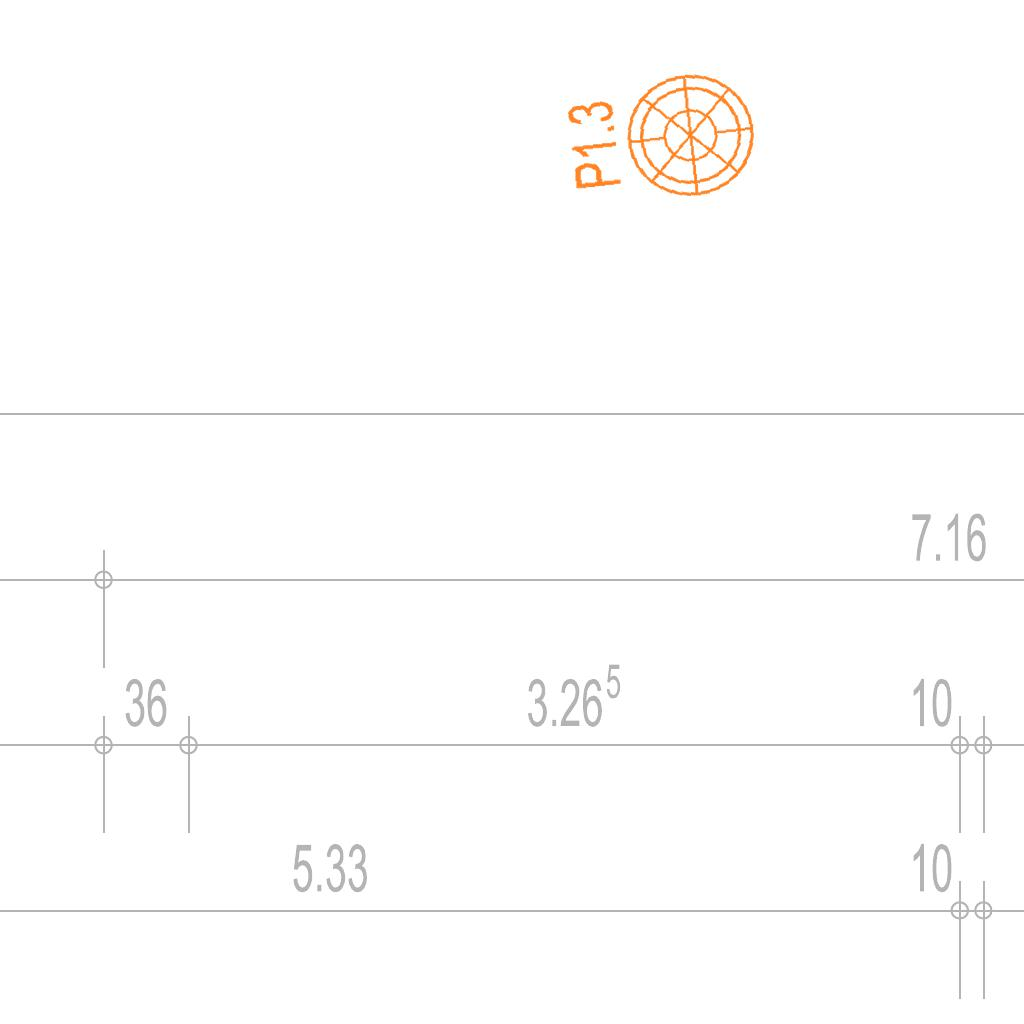Aufbaurundleuchte_LED_Treppenhaus: (545, 53, 764, 214)
